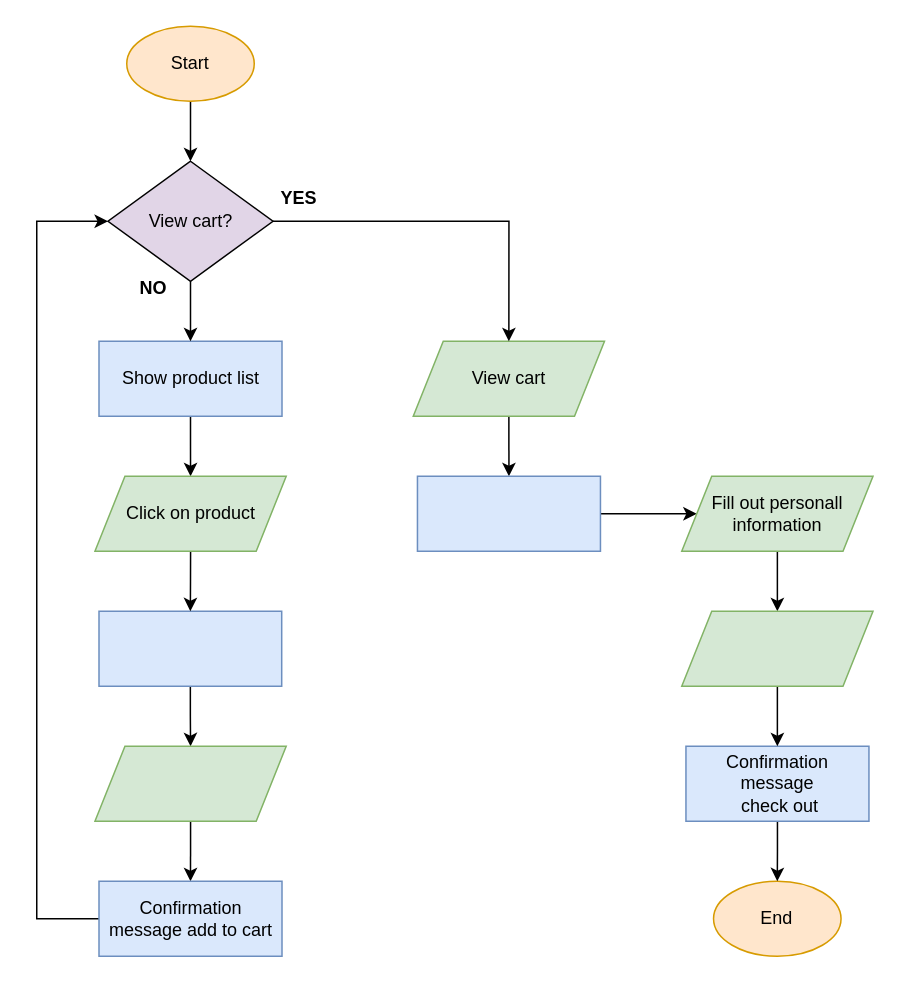
Some shapes in this 900 by 983 pixel diagram are drawn without their labels. The centre of each missing label's shape, as x and y in pixels:
"Add to cart" goes at point 189,783.
"Check out" goes at point 776,648.
"Display cart" goes at point 508,513.
"Display product description" goes at point 190,648.
